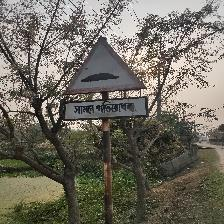Speed-breaker: (66, 39, 146, 120)
